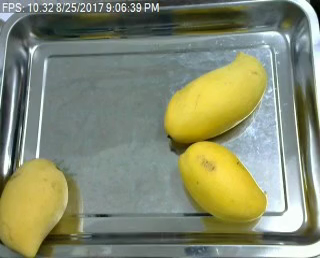Mango: (163, 51, 270, 145), (179, 140, 270, 222), (0, 157, 71, 255)
